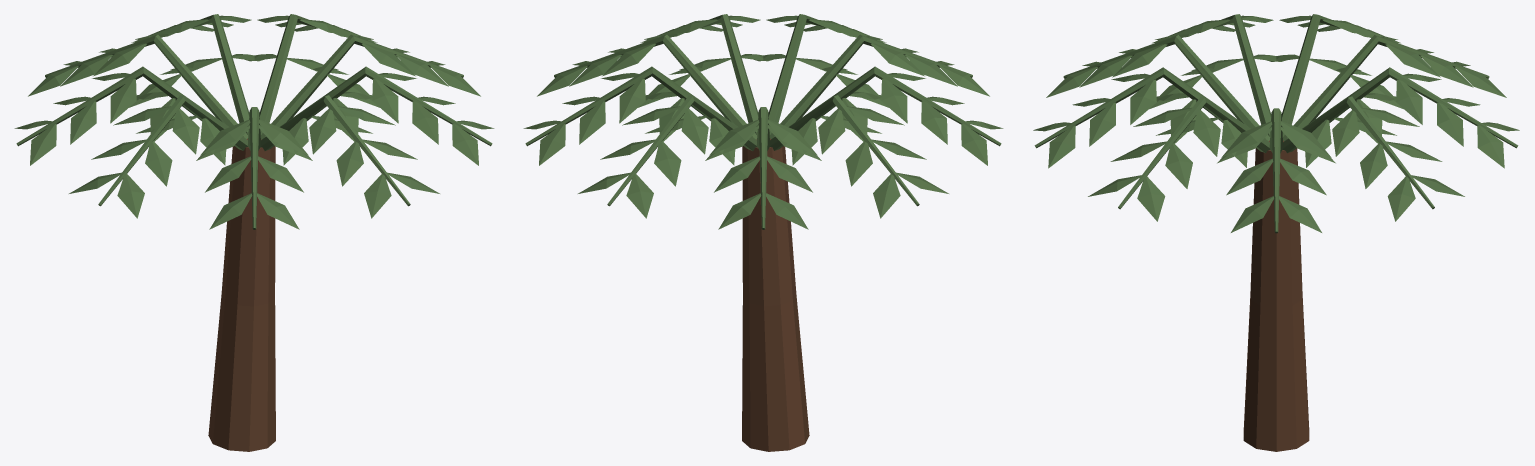
Rendered from Plant_Feature_Forest_TreeFern_001.glb.
3 views of the same model, side by side, from view 1: azimuth 30°, elevation 25°; view 2: azimuth 150°, elevation 25°; view 3: azimuth 270°, elevation 25° (orthographic).
Parts seen in each view (by area): view 1: Plant_Feature_Forest_TreeFern_001; view 2: Plant_Feature_Forest_TreeFern_001; view 3: Plant_Feature_Forest_TreeFern_001.
Part boxes in pixels (x1,y1,x2,y2): Plant_Feature_Forest_TreeFern_001: (14,14,494,451); Plant_Feature_Forest_TreeFern_001: (523,14,1003,451); Plant_Feature_Forest_TreeFern_001: (1033,14,1519,451).
Bounding box in the file's own units: 3.38 × 2.94 × 3.39.
